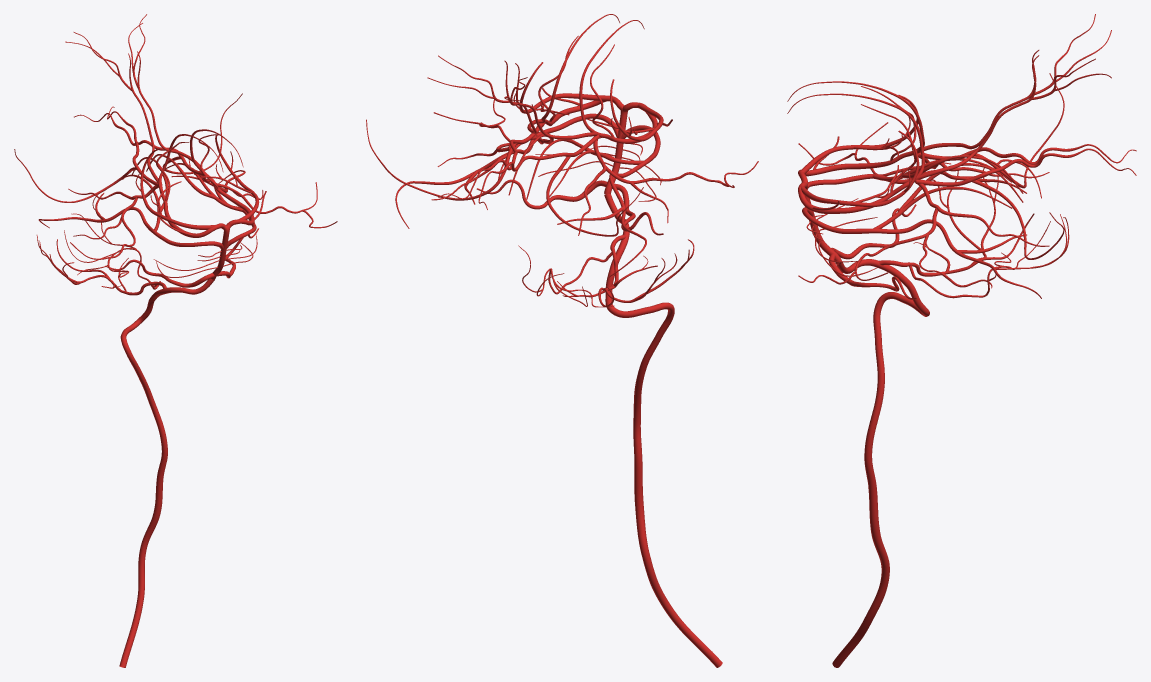
The model's file is circulatorio-vertebral-artery-r.glb.
3 views of the same model, side by side, from view 1: azimuth 30°, elevation 25°; view 2: azimuth 150°, elevation 25°; view 3: azimuth 270°, elevation 25° (orthographic). The views are drawn at different scales.
Parts seen in each view (by area): view 1: Vertebral artery.r, Posterior cerebral artery.r, Posterior cerebral artery.l, Posterior inferior cerebellar artery.r, Superior cerebellar artery.r, Superior cerebellar artery.l, Parieto-occipital artery.r, Parieto-occipital artery.l; view 2: Vertebral artery.r, Posterior cerebral artery.r, Posterior cerebral artery.l, Posterior inferior cerebellar artery.r, Superior cerebellar artery.r, Superior cerebellar artery.l, Anterior inferior cerebellar artery.l, Medial occipital artery.r, Parieto-occipital artery.r, Parieto-occipital artery.l; view 3: Vertebral artery.r, Posterior cerebral artery.l, Posterior cerebral artery.r, Superior cerebellar artery.l, Posterior inferior cerebellar artery.r, Superior cerebellar artery.r, Parieto-occipital artery.l, Parieto-occipital artery.r, Medial occipital artery.l, Medial occipital artery.r, Anterior inferior cerebellar artery.l, Lateral occipital artery.l.
Boxes of the visible parts, bbox=[...] form: Vertebral artery.r: bbox=[119, 278, 214, 667]; Posterior cerebral artery.r: bbox=[68, 134, 228, 277]; Posterior cerebral artery.l: bbox=[188, 129, 337, 235]; Posterior inferior cerebellar artery.r: bbox=[36, 189, 166, 295]; Superior cerebellar artery.r: bbox=[38, 157, 223, 250]; Superior cerebellar artery.l: bbox=[146, 154, 256, 248]; Parieto-occipital artery.r: bbox=[65, 32, 158, 183]; Parieto-occipital artery.l: bbox=[128, 14, 204, 170]; Vertebral artery.r: bbox=[604, 193, 722, 667]; Posterior cerebral artery.r: bbox=[578, 20, 758, 235]; Posterior cerebral artery.l: bbox=[431, 14, 625, 200]; Posterior inferior cerebellar artery.r: bbox=[518, 234, 694, 307]; Superior cerebellar artery.r: bbox=[526, 125, 660, 277]; Superior cerebellar artery.l: bbox=[395, 113, 618, 228]; Anterior inferior cerebellar artery.l: bbox=[476, 179, 607, 209]; Medial occipital artery.r: bbox=[478, 135, 599, 209]; Parieto-occipital artery.r: bbox=[504, 63, 598, 139]; Parieto-occipital artery.l: bbox=[427, 55, 544, 133]; Vertebral artery.r: bbox=[832, 259, 929, 667]; Posterior cerebral artery.l: bbox=[787, 93, 1049, 284]; Posterior cerebral artery.r: bbox=[787, 81, 1049, 184]; Superior cerebellar artery.l: bbox=[802, 163, 1041, 298]; Posterior inferior cerebellar artery.r: bbox=[879, 168, 1069, 298]; Superior cerebellar artery.r: bbox=[807, 155, 1041, 198]; Parieto-occipital artery.l: bbox=[915, 55, 1111, 179]; Parieto-occipital artery.r: bbox=[917, 14, 1111, 153]; Medial occipital artery.l: bbox=[915, 148, 1136, 186]; Medial occipital artery.r: bbox=[918, 144, 1136, 164]; Anterior inferior cerebellar artery.l: bbox=[828, 254, 916, 299]; Lateral occipital artery.l: bbox=[971, 180, 1064, 259].
Bounding box in the file's own units: 0.1111 × 0.2357 × 0.1088.
